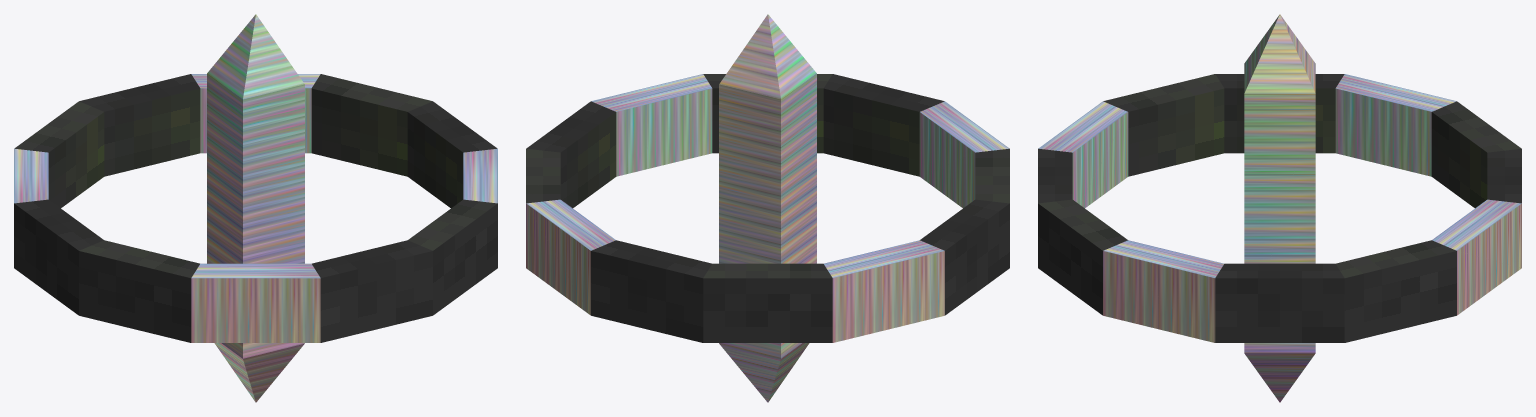
Rendered from eldrin_matrix_inventory.obj.
3 renders of one model, left to right at view 1: azimuth 30°, elevation 25°; view 2: azimuth 150°, elevation 25°; view 3: azimuth 270°, elevation 25°, orthographic.
Parts seen in each view (by area): view 1: PYLON_RING_Cylinder.001, PYLON_CRYSTAL_Cylinder.002; view 2: PYLON_RING_Cylinder.001, PYLON_CRYSTAL_Cylinder.002; view 3: PYLON_RING_Cylinder.001, PYLON_CRYSTAL_Cylinder.002.
Part boxes in pixels (<box>): PYLON_RING_Cylinder.001: <box>14,74,497,342</box>; PYLON_CRYSTAL_Cylinder.002: <box>207,14,304,402</box>; PYLON_RING_Cylinder.001: <box>526,74,1009,342</box>; PYLON_CRYSTAL_Cylinder.002: <box>719,14,816,402</box>; PYLON_RING_Cylinder.001: <box>1038,74,1521,342</box>; PYLON_CRYSTAL_Cylinder.002: <box>1244,14,1315,402</box>.
Size of the model in its own units: 0.8452 by 0.75 by 0.8452.
